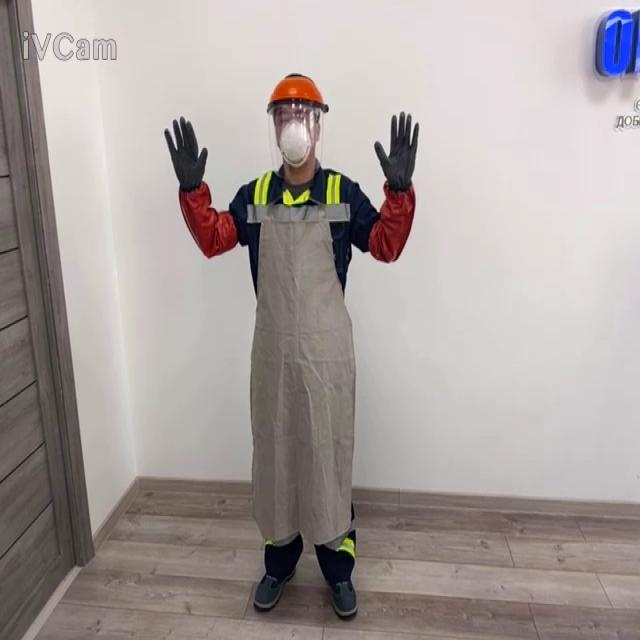Mask: (277, 116, 312, 168)
Protective apron: (246, 193, 356, 548)
Safety Shoes: (252, 567, 295, 609), (329, 577, 357, 616)
Sleeve: (178, 179, 238, 257), (367, 178, 415, 262)
gloves: (374, 109, 419, 192), (163, 115, 207, 192)
